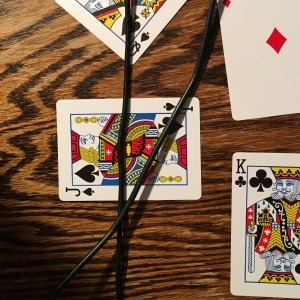card: (55, 96, 203, 204)
